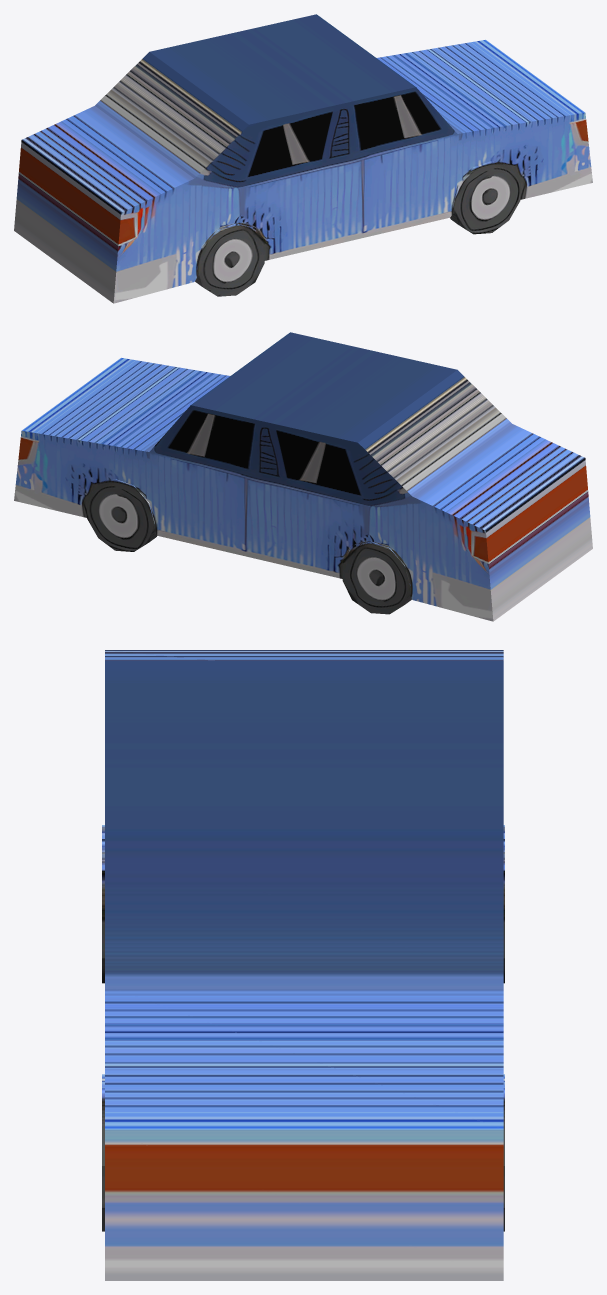
Rendered from BusiCar.glb.
3 renders of one model, top to bottom at view 1: azimuth 30°, elevation 25°; view 2: azimuth 150°, elevation 25°; view 3: azimuth 270°, elevation 25°, orthographic. The views are drawn at different scales.
Visible parts, largest first — view 1: BusiCar; view 2: BusiCar; view 3: BusiCar.
Boxes of the visible parts, x1,y1,x2,y2 form: BusiCar: (14,14,592,303); BusiCar: (14,332,592,621); BusiCar: (102,650,504,1280).
Size of the model in its own units: 87.02 by 28.95 by 31.69.
1 material, 1 textured.
